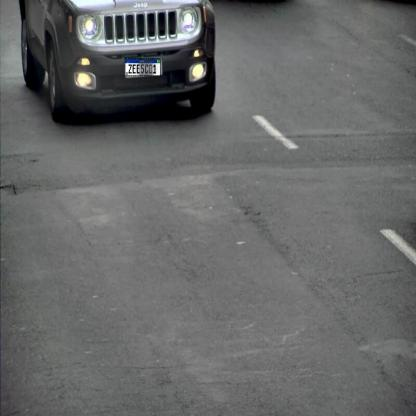PlacaM: (124, 58, 160, 76)
